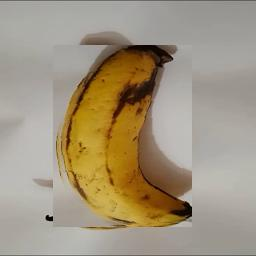Banana Semifresh: (54, 45, 193, 227)
